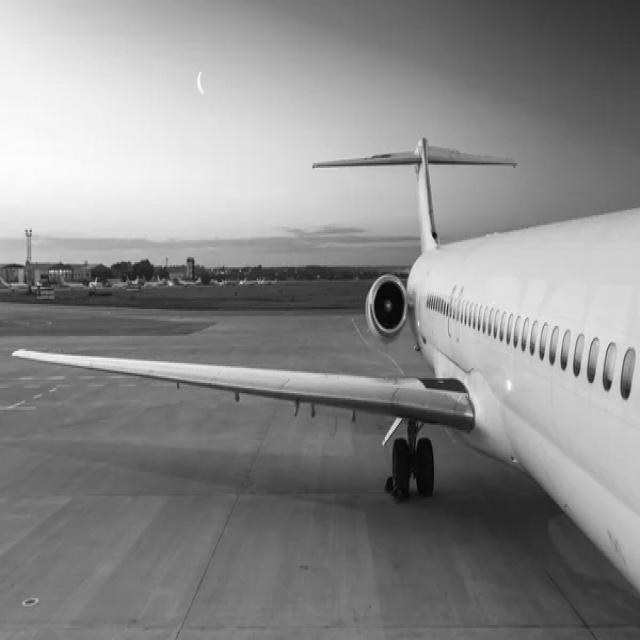Aircraft: (45, 126, 640, 602)
